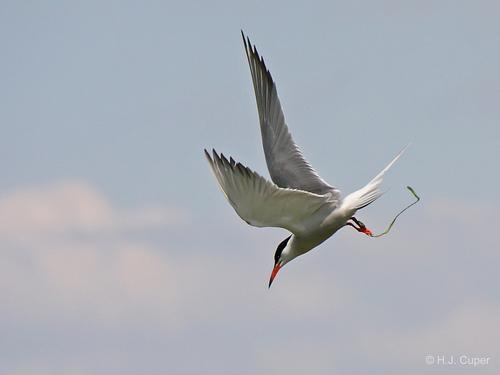bird: (209, 29, 410, 288)
